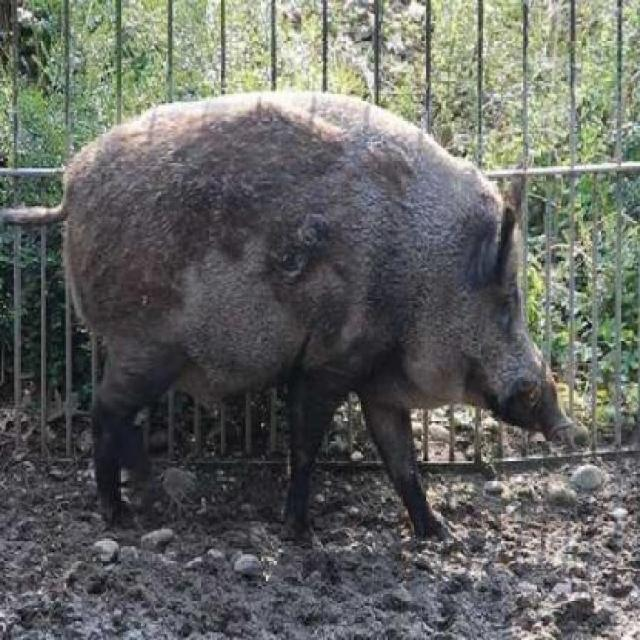pig: (71, 69, 595, 539)
